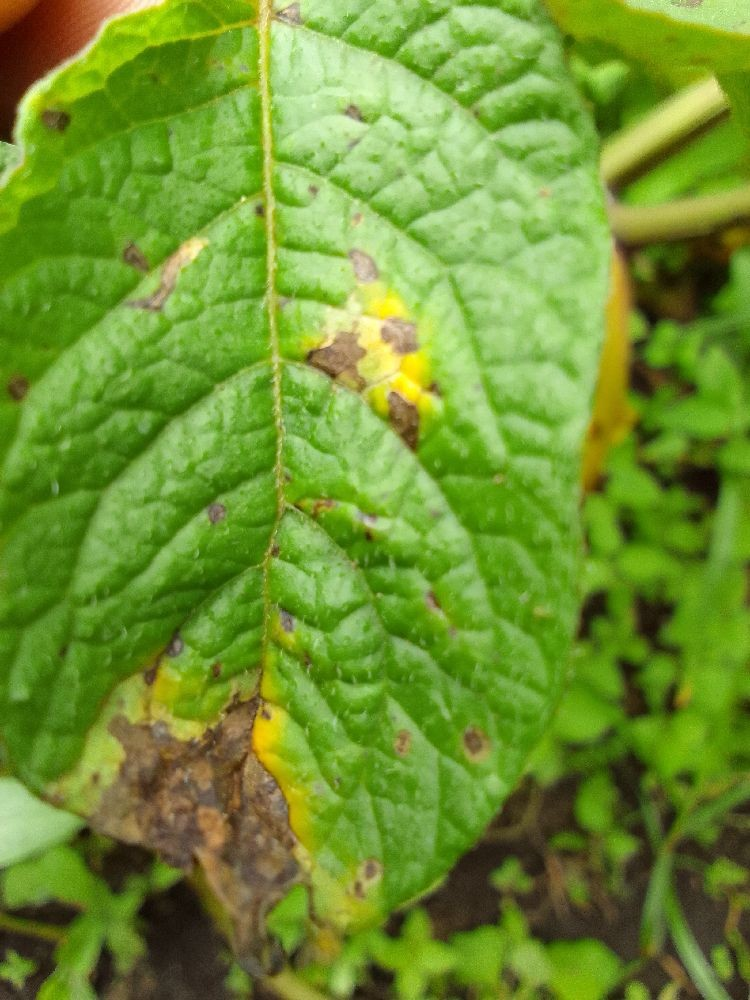late_blight: (32, 625, 358, 999), (335, 708, 750, 1000), (546, 173, 750, 559), (0, 0, 133, 161)
